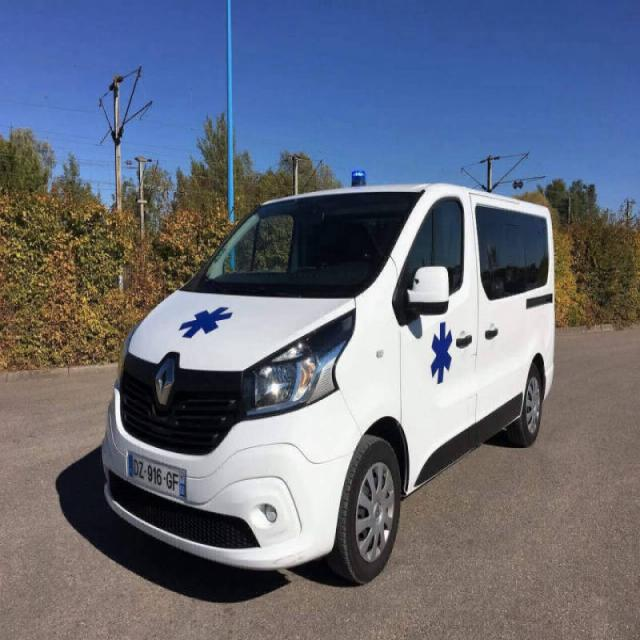ambulance: (99, 168, 558, 584)
